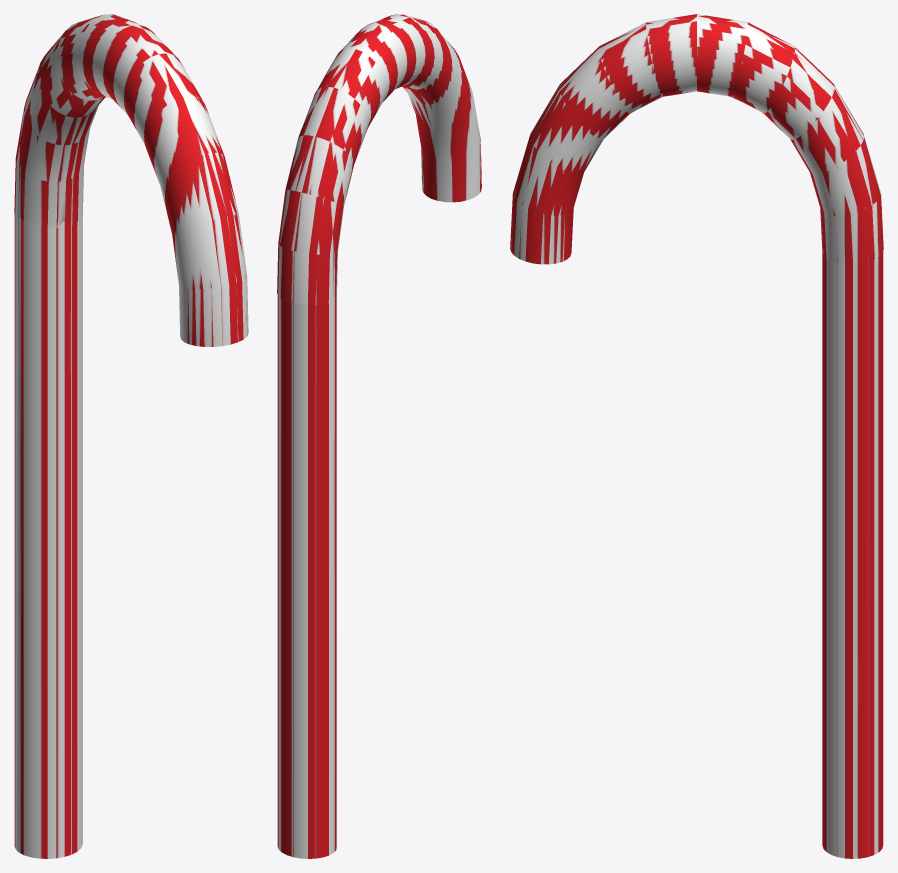
Rendered from candy cane.dae.
The picture shows the model from 3 angles, left to right: view 1: azimuth 30°, elevation 25°; view 2: azimuth 150°, elevation 25°; view 3: azimuth 270°, elevation 25°; orthographic projection. The views are drawn at different scales.
Parts seen in each view (by area): view 1: SketchUp_001, SketchUp; view 2: SketchUp_001, SketchUp; view 3: SketchUp, SketchUp_001.
Boxes of the visible parts, bbox=[...] form: SketchUp_001: bbox=[14, 215, 82, 858]; SketchUp: bbox=[14, 14, 248, 346]; SketchUp_001: bbox=[277, 293, 336, 858]; SketchUp: bbox=[277, 14, 481, 305]; SketchUp: bbox=[510, 14, 883, 264]; SketchUp_001: bbox=[822, 251, 883, 858].
Size of the model in its own units: 0.2183 by 1.24 by 3.05.
2 materials, 1 textured.
